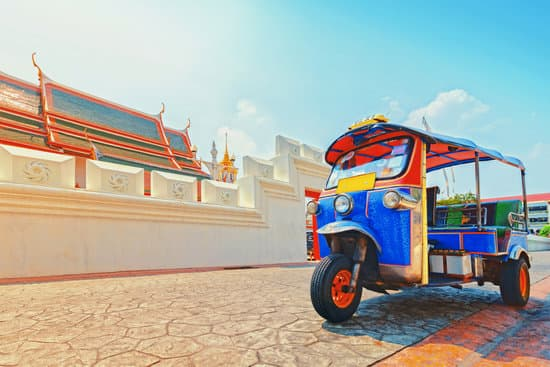threewheel: (306, 112, 532, 322)
